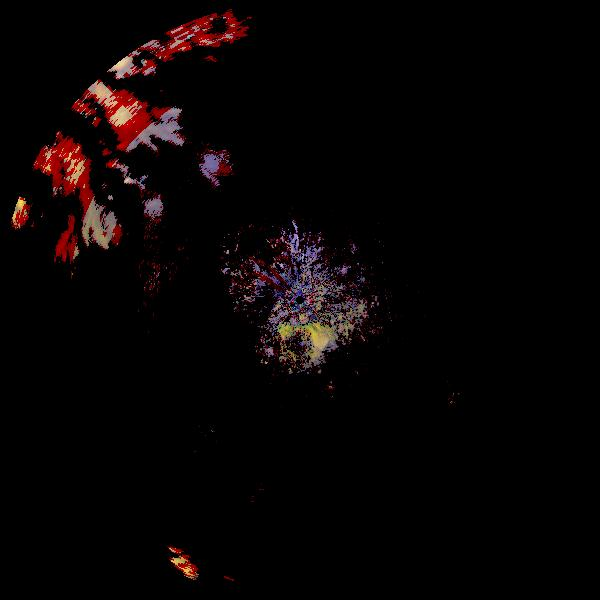roost: (253, 311, 355, 413), (420, 377, 522, 479)
